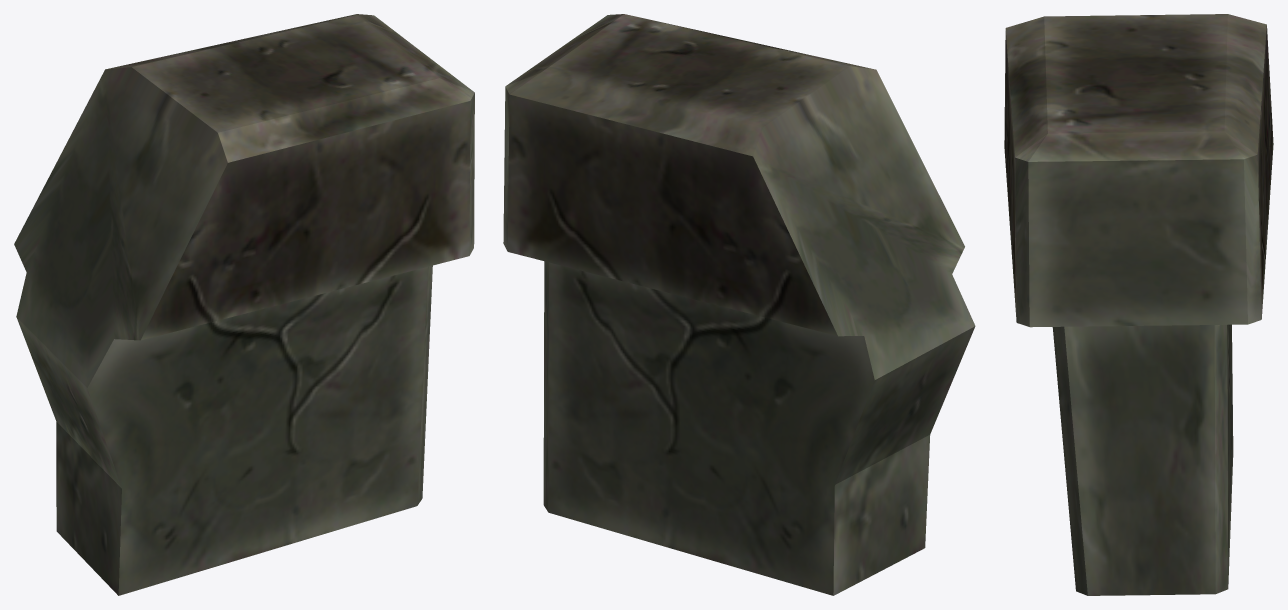
File: WallBreak02.FBX
The picture shows the model from 3 angles, left to right: view 1: azimuth 30°, elevation 25°; view 2: azimuth 150°, elevation 25°; view 3: azimuth 270°, elevation 25°; orthographic projection. The views are drawn at different scales.
Visible parts, largest first — view 1: WallBreak02; view 2: WallBreak02; view 3: WallBreak02.
Boxes of the visible parts, x1,y1,x2,y2 form: WallBreak02: (14,14,474,595); WallBreak02: (503,14,975,595); WallBreak02: (1004,14,1273,595).
Size of the model in its own units: 22.37 by 25.63 by 12.98.
